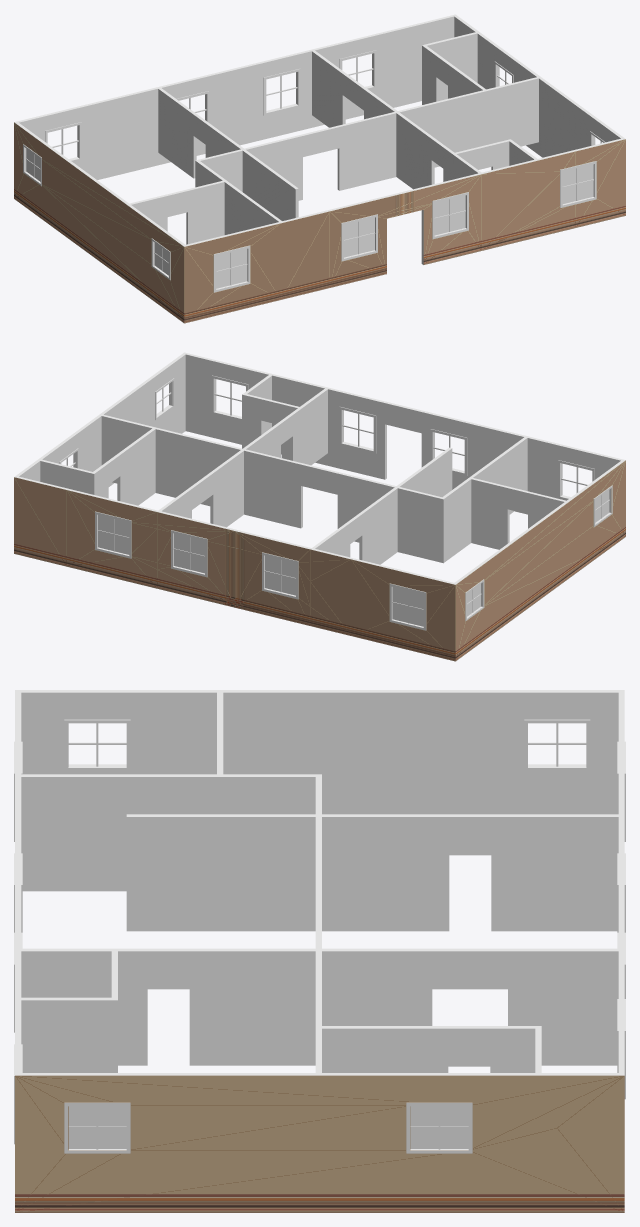
File: walls.gltf
3 views of the same model, one above another, from view 1: azimuth 30°, elevation 25°; view 2: azimuth 150°, elevation 25°; view 3: azimuth 270°, elevation 25° (orthographic). The views are drawn at different scales.
Parts seen in each view (by area): view 1: brick (×2), walls (×6), bedroom1 (×6), bedroom2 (×5), diningroom (×7), livingroom (×9), white, tiles (×3), glass, cement (×4); view 2: brick (×4), bedroom1 (×6), walls (×6), diningroom (×7), livingroom (×5), bedroom2 (×6), white, tiles (×3), glass, cement (×4); view 3: brick (×2), bedroom1 (×2), walls (×3), diningroom (×4), livingroom (×3), bedroom2 (×5), tiles (×2), cement (×11), white, glass.
Boxes of the visible parts, x1,y1,x2,y2 form: brick (×2): (14,122,625,323); walls (×6): (200,113,477,220); bedroom1 (×6): (19,89,240,179); bedroom2 (×5): (400,78,620,167); diningroom (×7): (315,16,536,105); livingroom (×9): (162,51,394,145); white: (23,50,605,292); tiles (×3): (131,141,509,244); glass: (26,149,593,288); cement (×4): (16,14,625,246); brick (×4): (14,460,625,661); bedroom1 (×6): (315,479,563,564); walls (×6): (247,389,527,514); diningroom (×7): (19,416,240,506); livingroom (×5): (162,450,394,542); bedroom2 (×6): (104,354,297,459); white: (59,375,612,630); tiles (×3): (247,375,620,514); glass: (98,490,609,626); cement (×4): (14,352,625,583); brick (×2): (15,1075,624,1212); bedroom1 (×2): (223,692,618,814); walls (×3): (21,777,315,931); diningroom (×4): (322,951,618,1072); livingroom (×3): (322,817,618,931); bedroom2 (×5): (21,951,315,1072); tiles (×2): (21,692,216,997); cement (×11): (15,690,624,1075); white: (14,719,625,1153); glass: (68,1106,468,1148).
Bounding box in the file's own units: 85.63 × 14.17 × 57.3.
10 materials, 1 textured.
